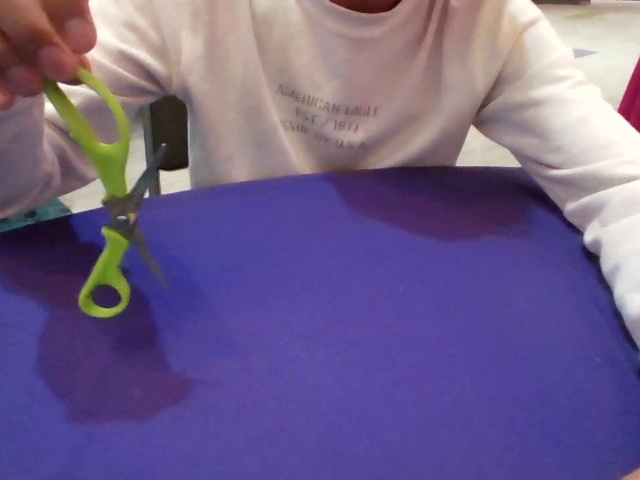tijeras: (74, 102, 177, 319)
